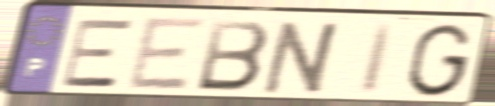B: (193, 18, 272, 94)
E: (124, 14, 209, 94), (59, 17, 135, 90)
G: (402, 21, 476, 100)
I: (356, 22, 400, 98)
N: (257, 19, 348, 97)
